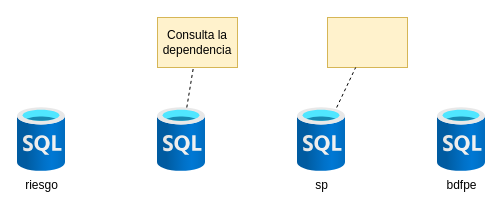
Image size: 502x210. Some labels were removed from this diagram. Here are the shapes that lost their labels. From the top down, the centre of each, then its label:
At point 367,42: "Validan Vacaciones y Licencias".
At point 181,139: "recauda".
